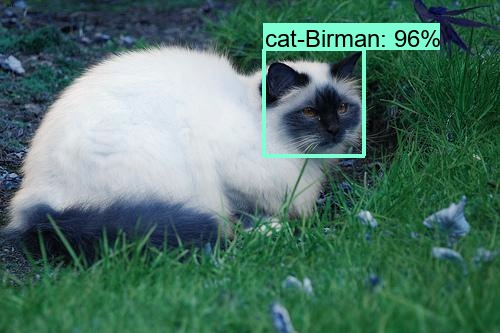cat-Birman: (267, 51, 364, 149)
